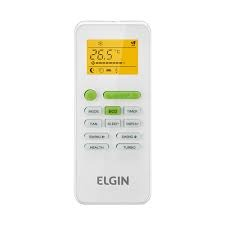remote control: (79, 25, 147, 203)
